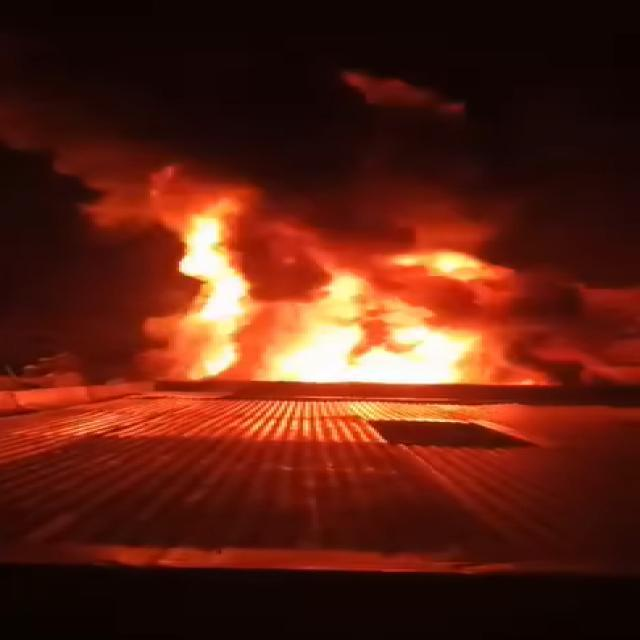Fire: (184, 210, 532, 380)
Smoke: (18, 8, 640, 274)
